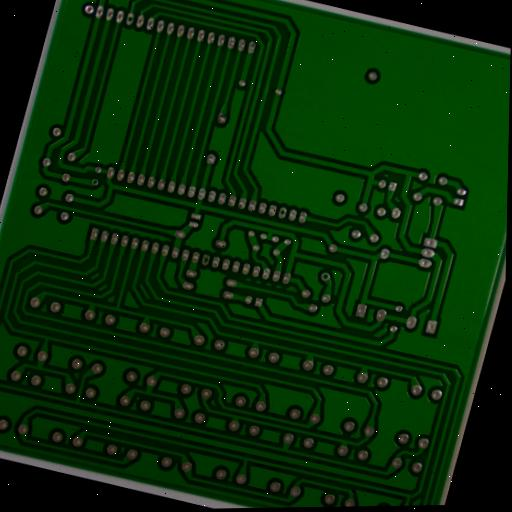missing_hole: (122, 11, 138, 27), (198, 252, 214, 267), (319, 269, 333, 285), (276, 205, 289, 220), (89, 177, 102, 188)
